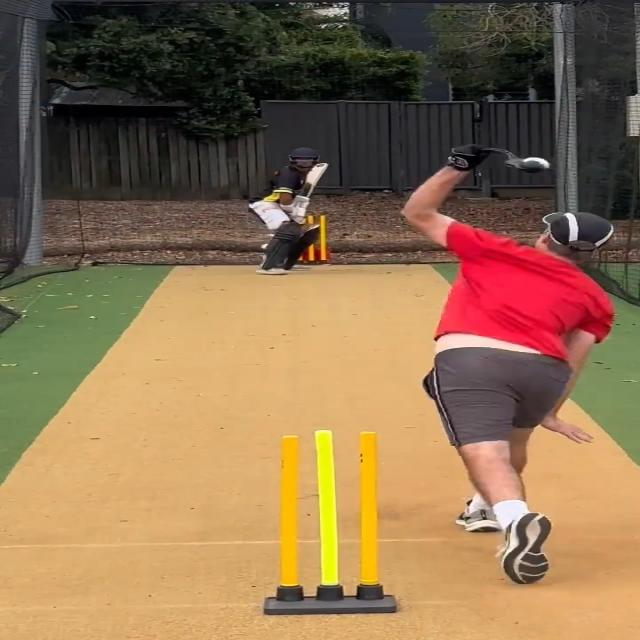stump: (261, 430, 398, 615)
